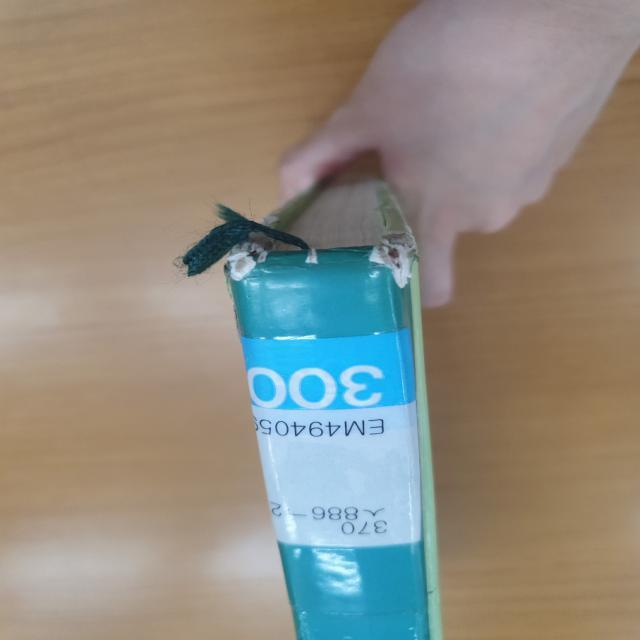Ripped: (217, 213, 282, 299), (367, 227, 425, 292), (298, 246, 323, 268)
